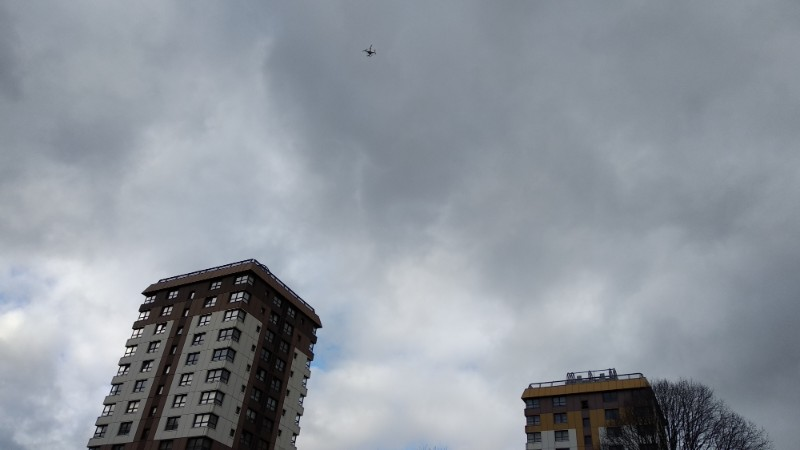drone: (363, 45, 377, 58)
